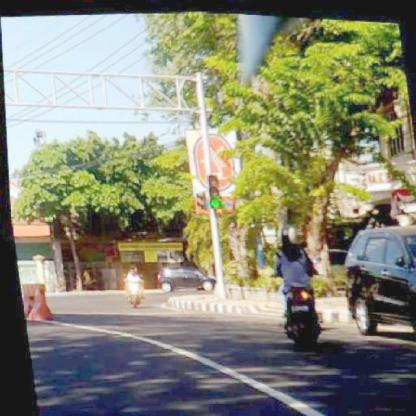Traffic Light -Green-: (206, 173, 220, 208)
